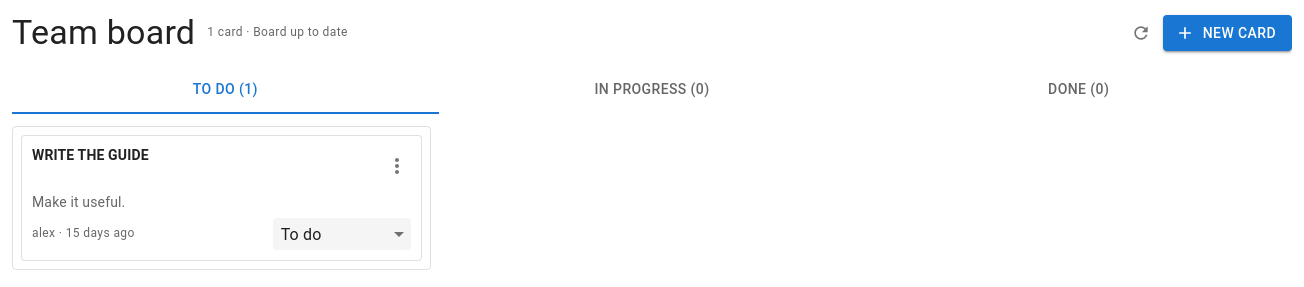
Scenario: shared kanban board › resets mobile scroll for a column change but leaves the selected column and scroll alone on refresh
What coordinates should you click on to do the following:
click the tab "Done (0)"
I would click on:
 (1079, 90)
Its box is [865,66,1292,114].
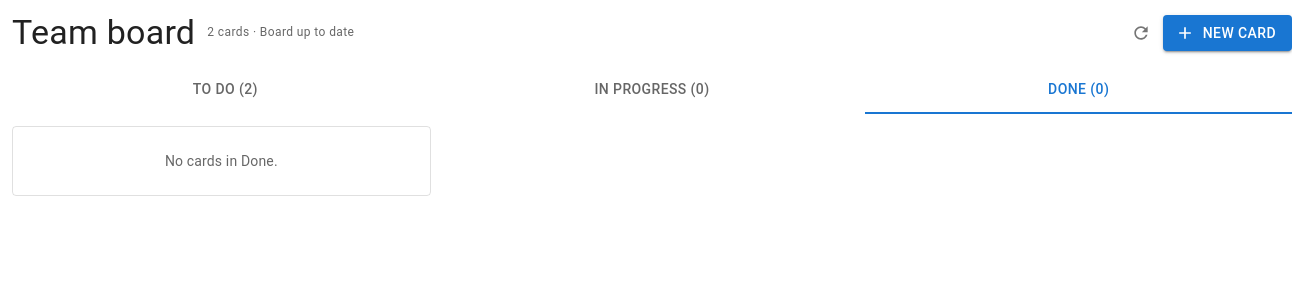
Expected: the tab "To do (2)" is shown, [12,66,439,114]
